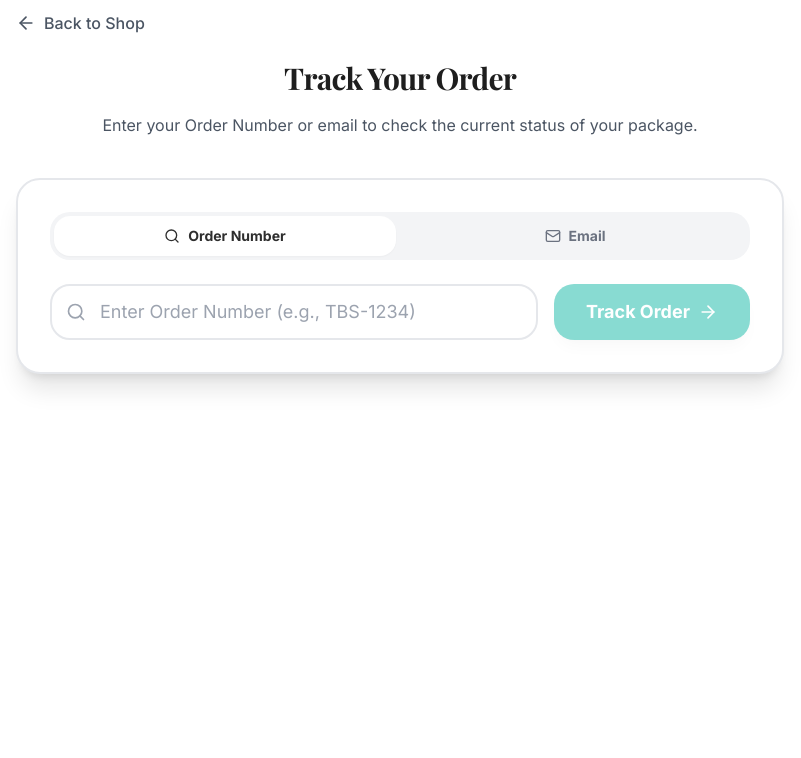
Test: OrderTracking › order search › displays order number after successful search
Type "TBS-1234" into the field with placeholder "Enter Order Number (e.g., TBS-1234)".
click(294, 312); type("TBS-1234")  # box x1=50 y1=284 x2=538 y2=340
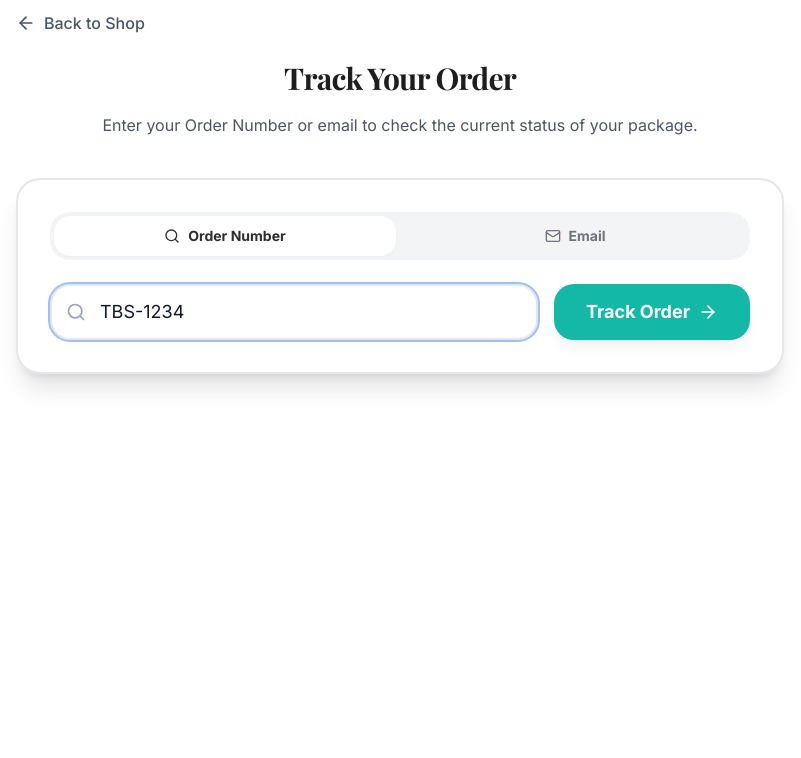
Click the button "Track Order".
click(652, 312)  # box x1=554 y1=284 x2=750 y2=340
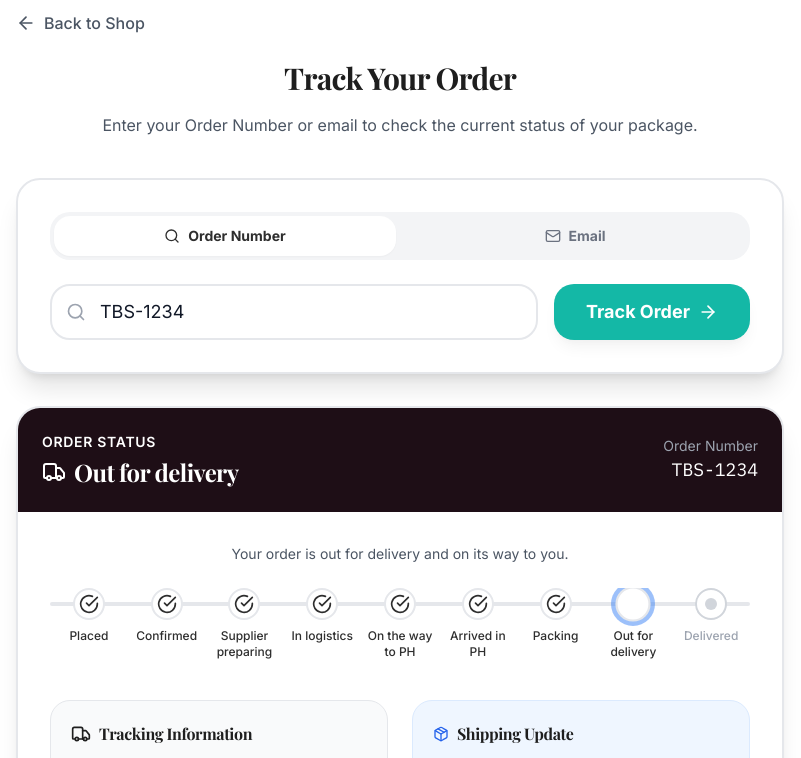
Expected: the text "TBS-1234" is shown, x1=663 y1=456 x2=758 y2=484
